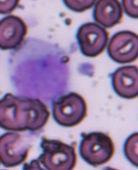L: (6, 37, 72, 101)
